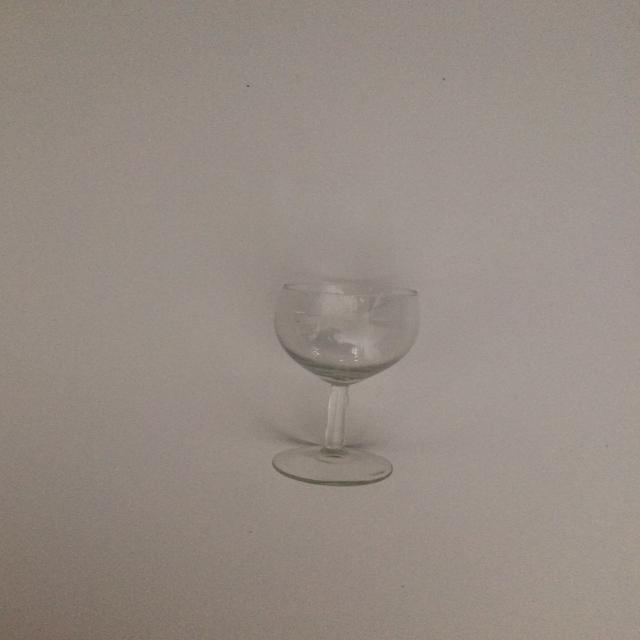glass: (270, 279, 422, 486)
